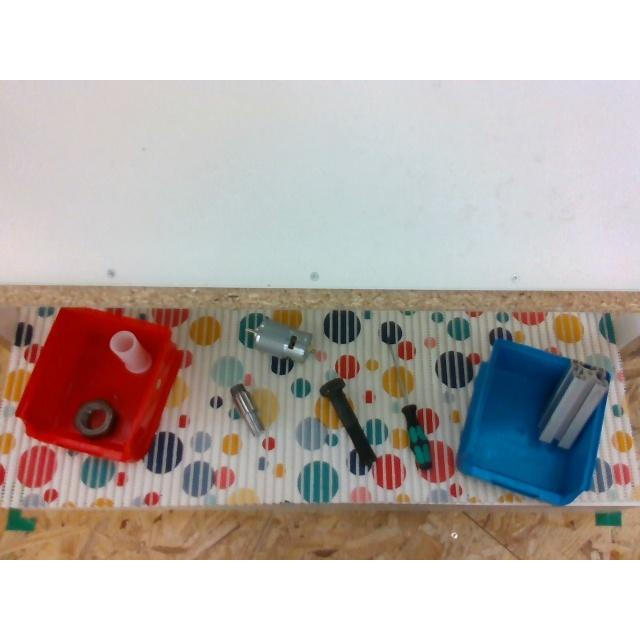Axis2: (230, 383, 264, 437)
M20_100: (319, 377, 376, 468)
M30: (74, 400, 118, 438)
Motor2: (239, 314, 311, 362)
S40_40_G: (538, 359, 610, 448)
Screwdriver: (382, 336, 432, 472)
Spacer: (108, 331, 152, 374)
container_box_blue: (457, 338, 609, 504)
container_box_red: (16, 308, 184, 462)
